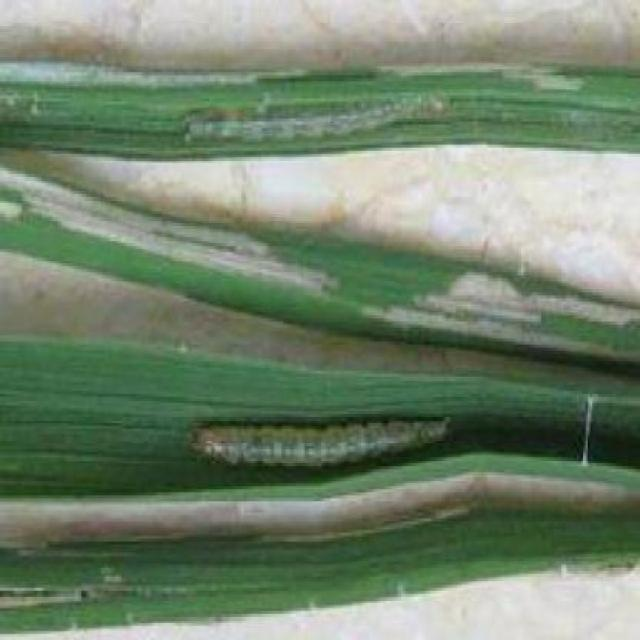leaf-folder: (178, 382, 488, 492), (170, 76, 468, 164)
